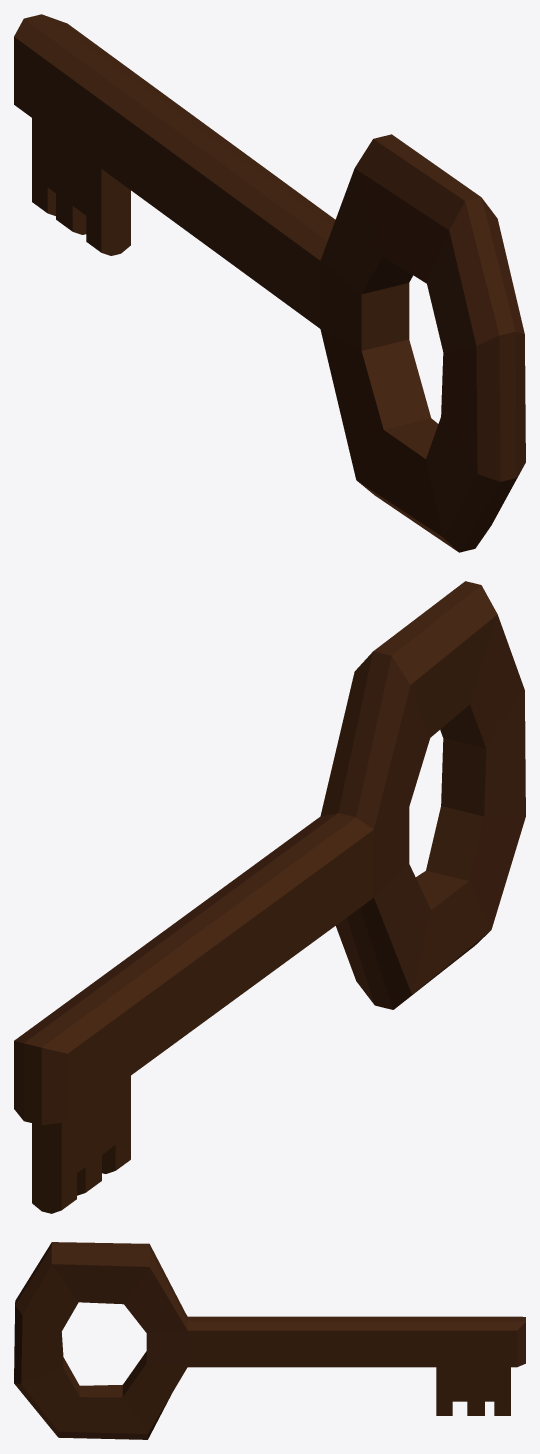
File: PH_key.glb
The picture shows the model from 3 angles, top to bottom: view 1: azimuth 30°, elevation 25°; view 2: azimuth 150°, elevation 25°; view 3: azimuth 270°, elevation 25°; orthographic projection. The views are drawn at different scales.
Visible parts, largest first — view 1: PH_key; view 2: PH_key; view 3: PH_key.
Boxes of the visible parts, x1,y1,x2,y2 form: PH_key: (14,14,525,552); PH_key: (14,581,525,1213); PH_key: (14,1242,525,1439).
Size of the model in its own units: 0.1896 by 1.17 by 2.8.
